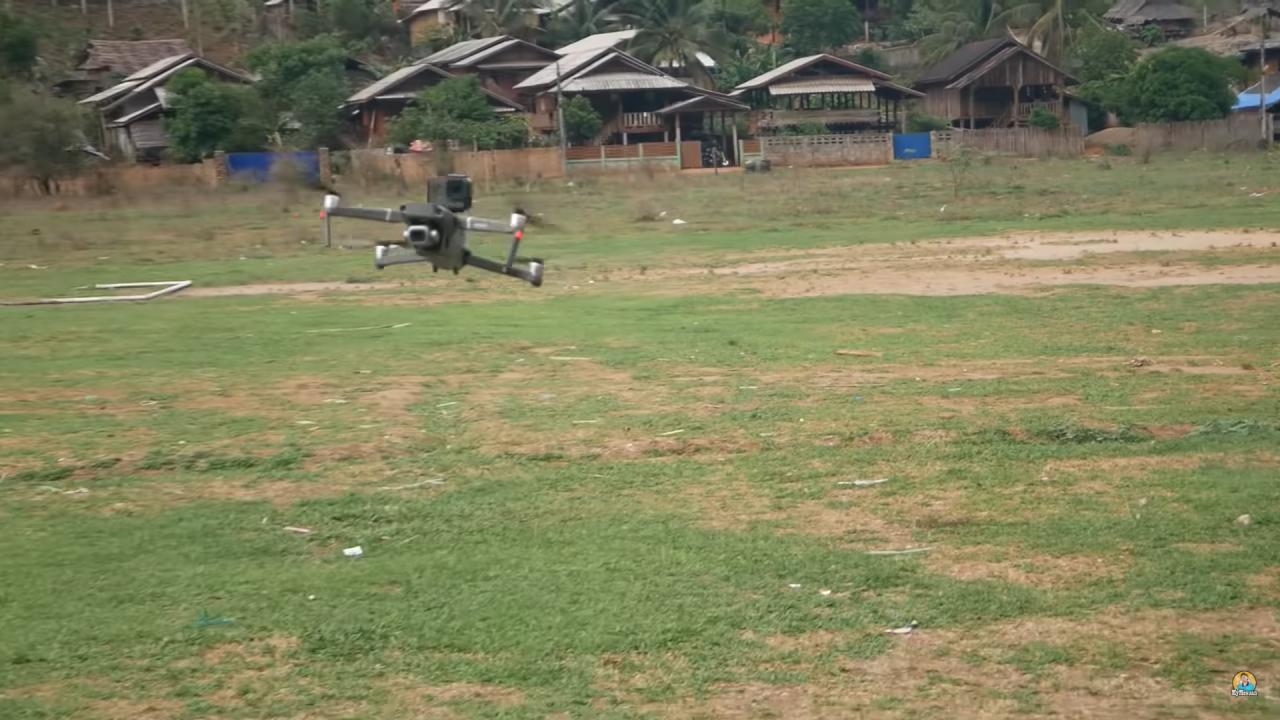Drone: (264, 156, 578, 309)
